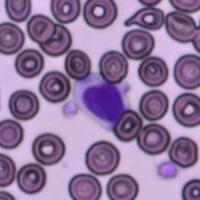L: (70, 73, 130, 130)
